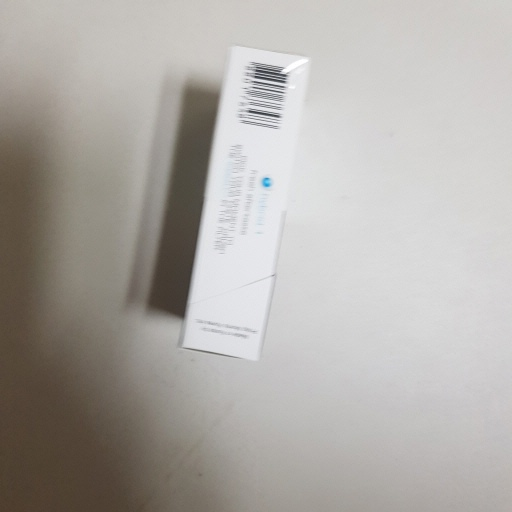Paper_0: (164, 44, 316, 382)
